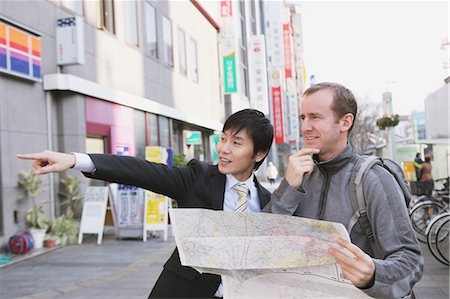pointing_gesture: (12, 150, 78, 177)
